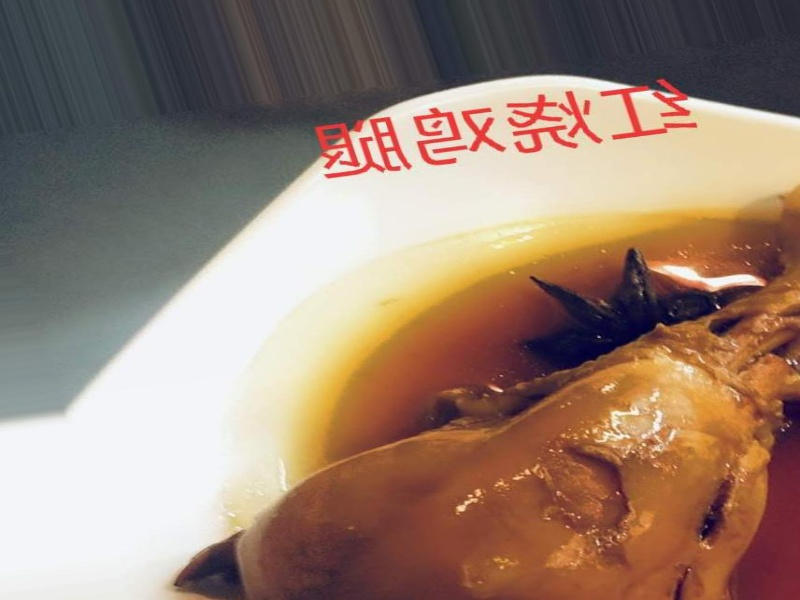chicken: (187, 194, 799, 600)
